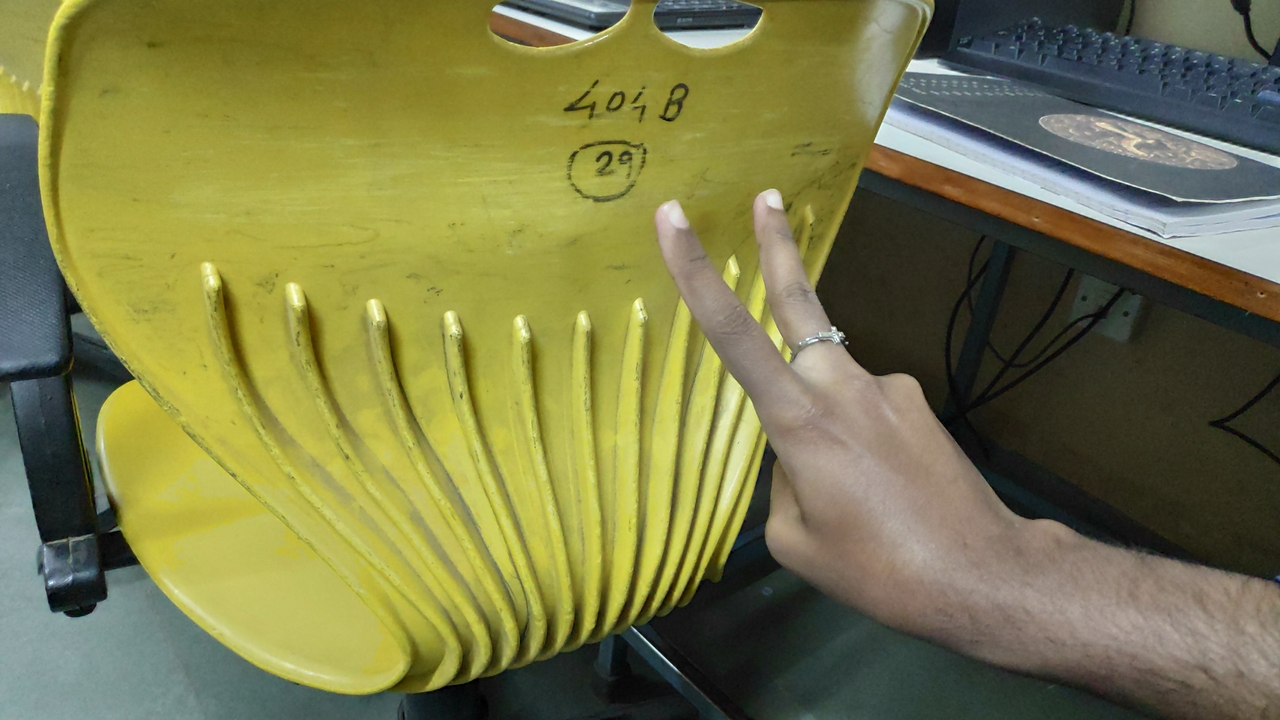fingertip: (740, 174, 800, 234), (646, 188, 704, 242)
